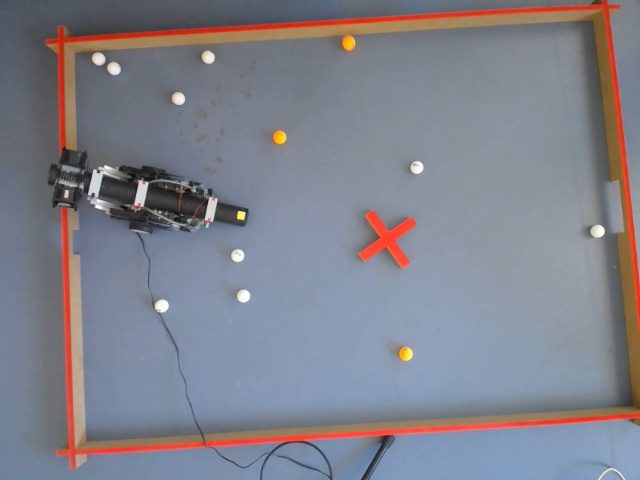orange: (270, 128, 289, 146), (341, 34, 356, 53), (399, 346, 412, 362)
robot: (52, 151, 253, 231)
white: (588, 222, 607, 241), (200, 49, 217, 67), (235, 287, 252, 304), (91, 50, 107, 67), (409, 159, 425, 176), (230, 247, 246, 264), (106, 60, 122, 77), (170, 91, 187, 106), (154, 298, 169, 313), (235, 209, 248, 223)
